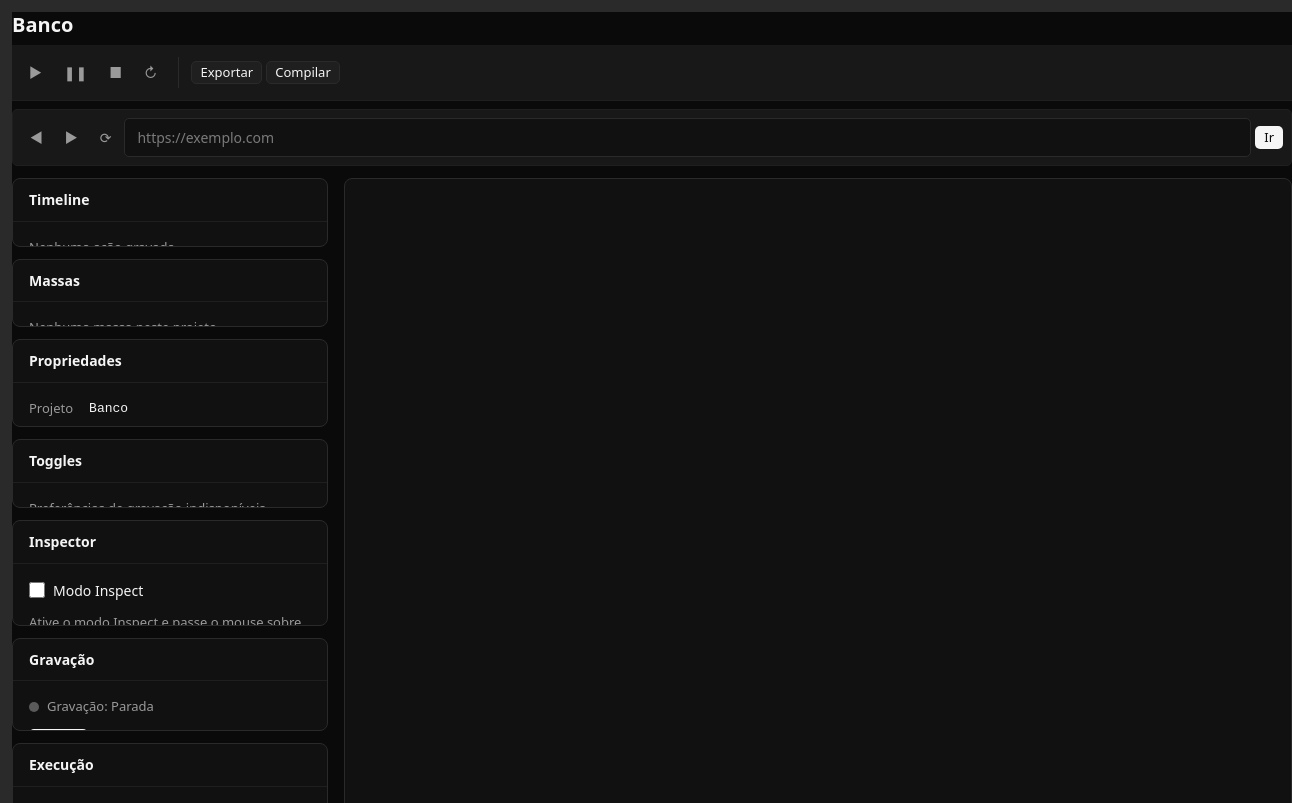
Test: AutomationView (PRD §9, §15) › surfaces the reason when the run cannot start
Click the button named "Play" at (35, 72), box [20, 53, 51, 92]
(page scrolled)
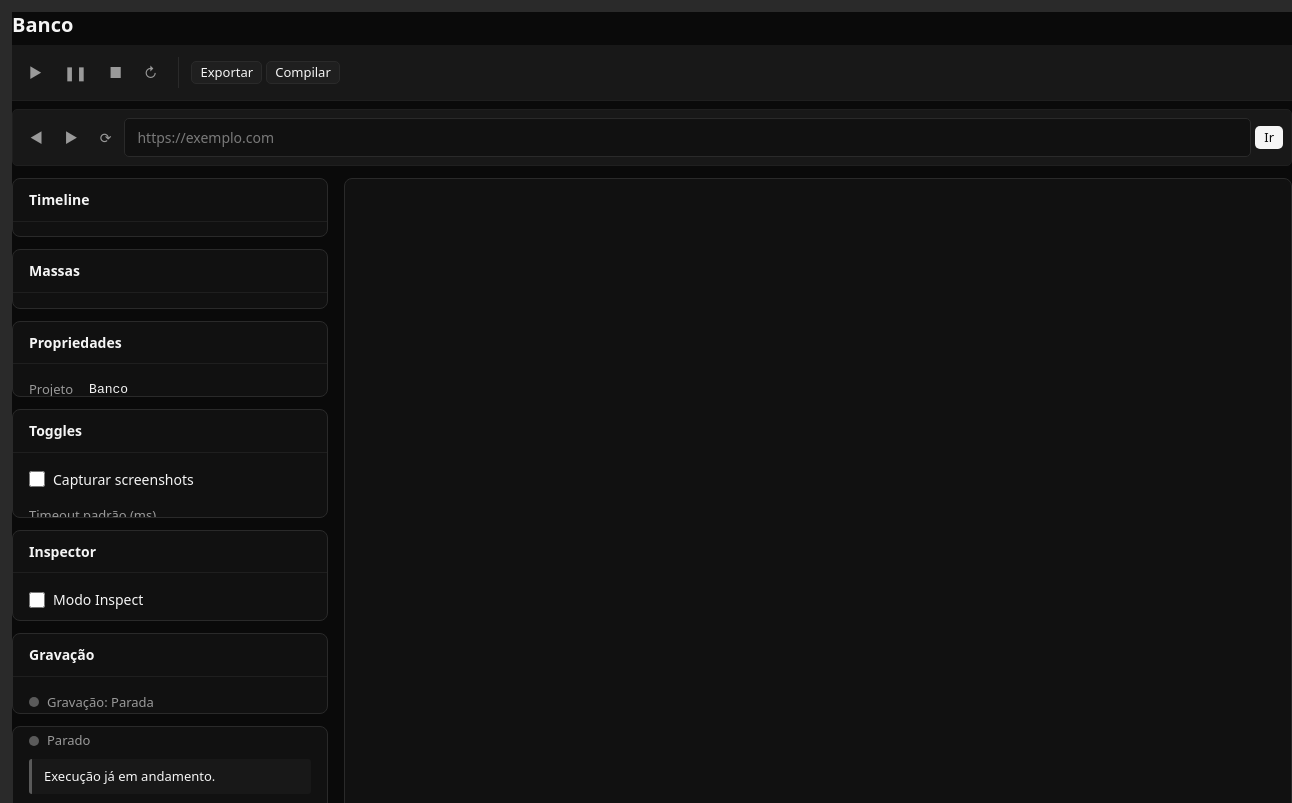
Result: the message shows "já em andamento" at [44, 767, 215, 785]
